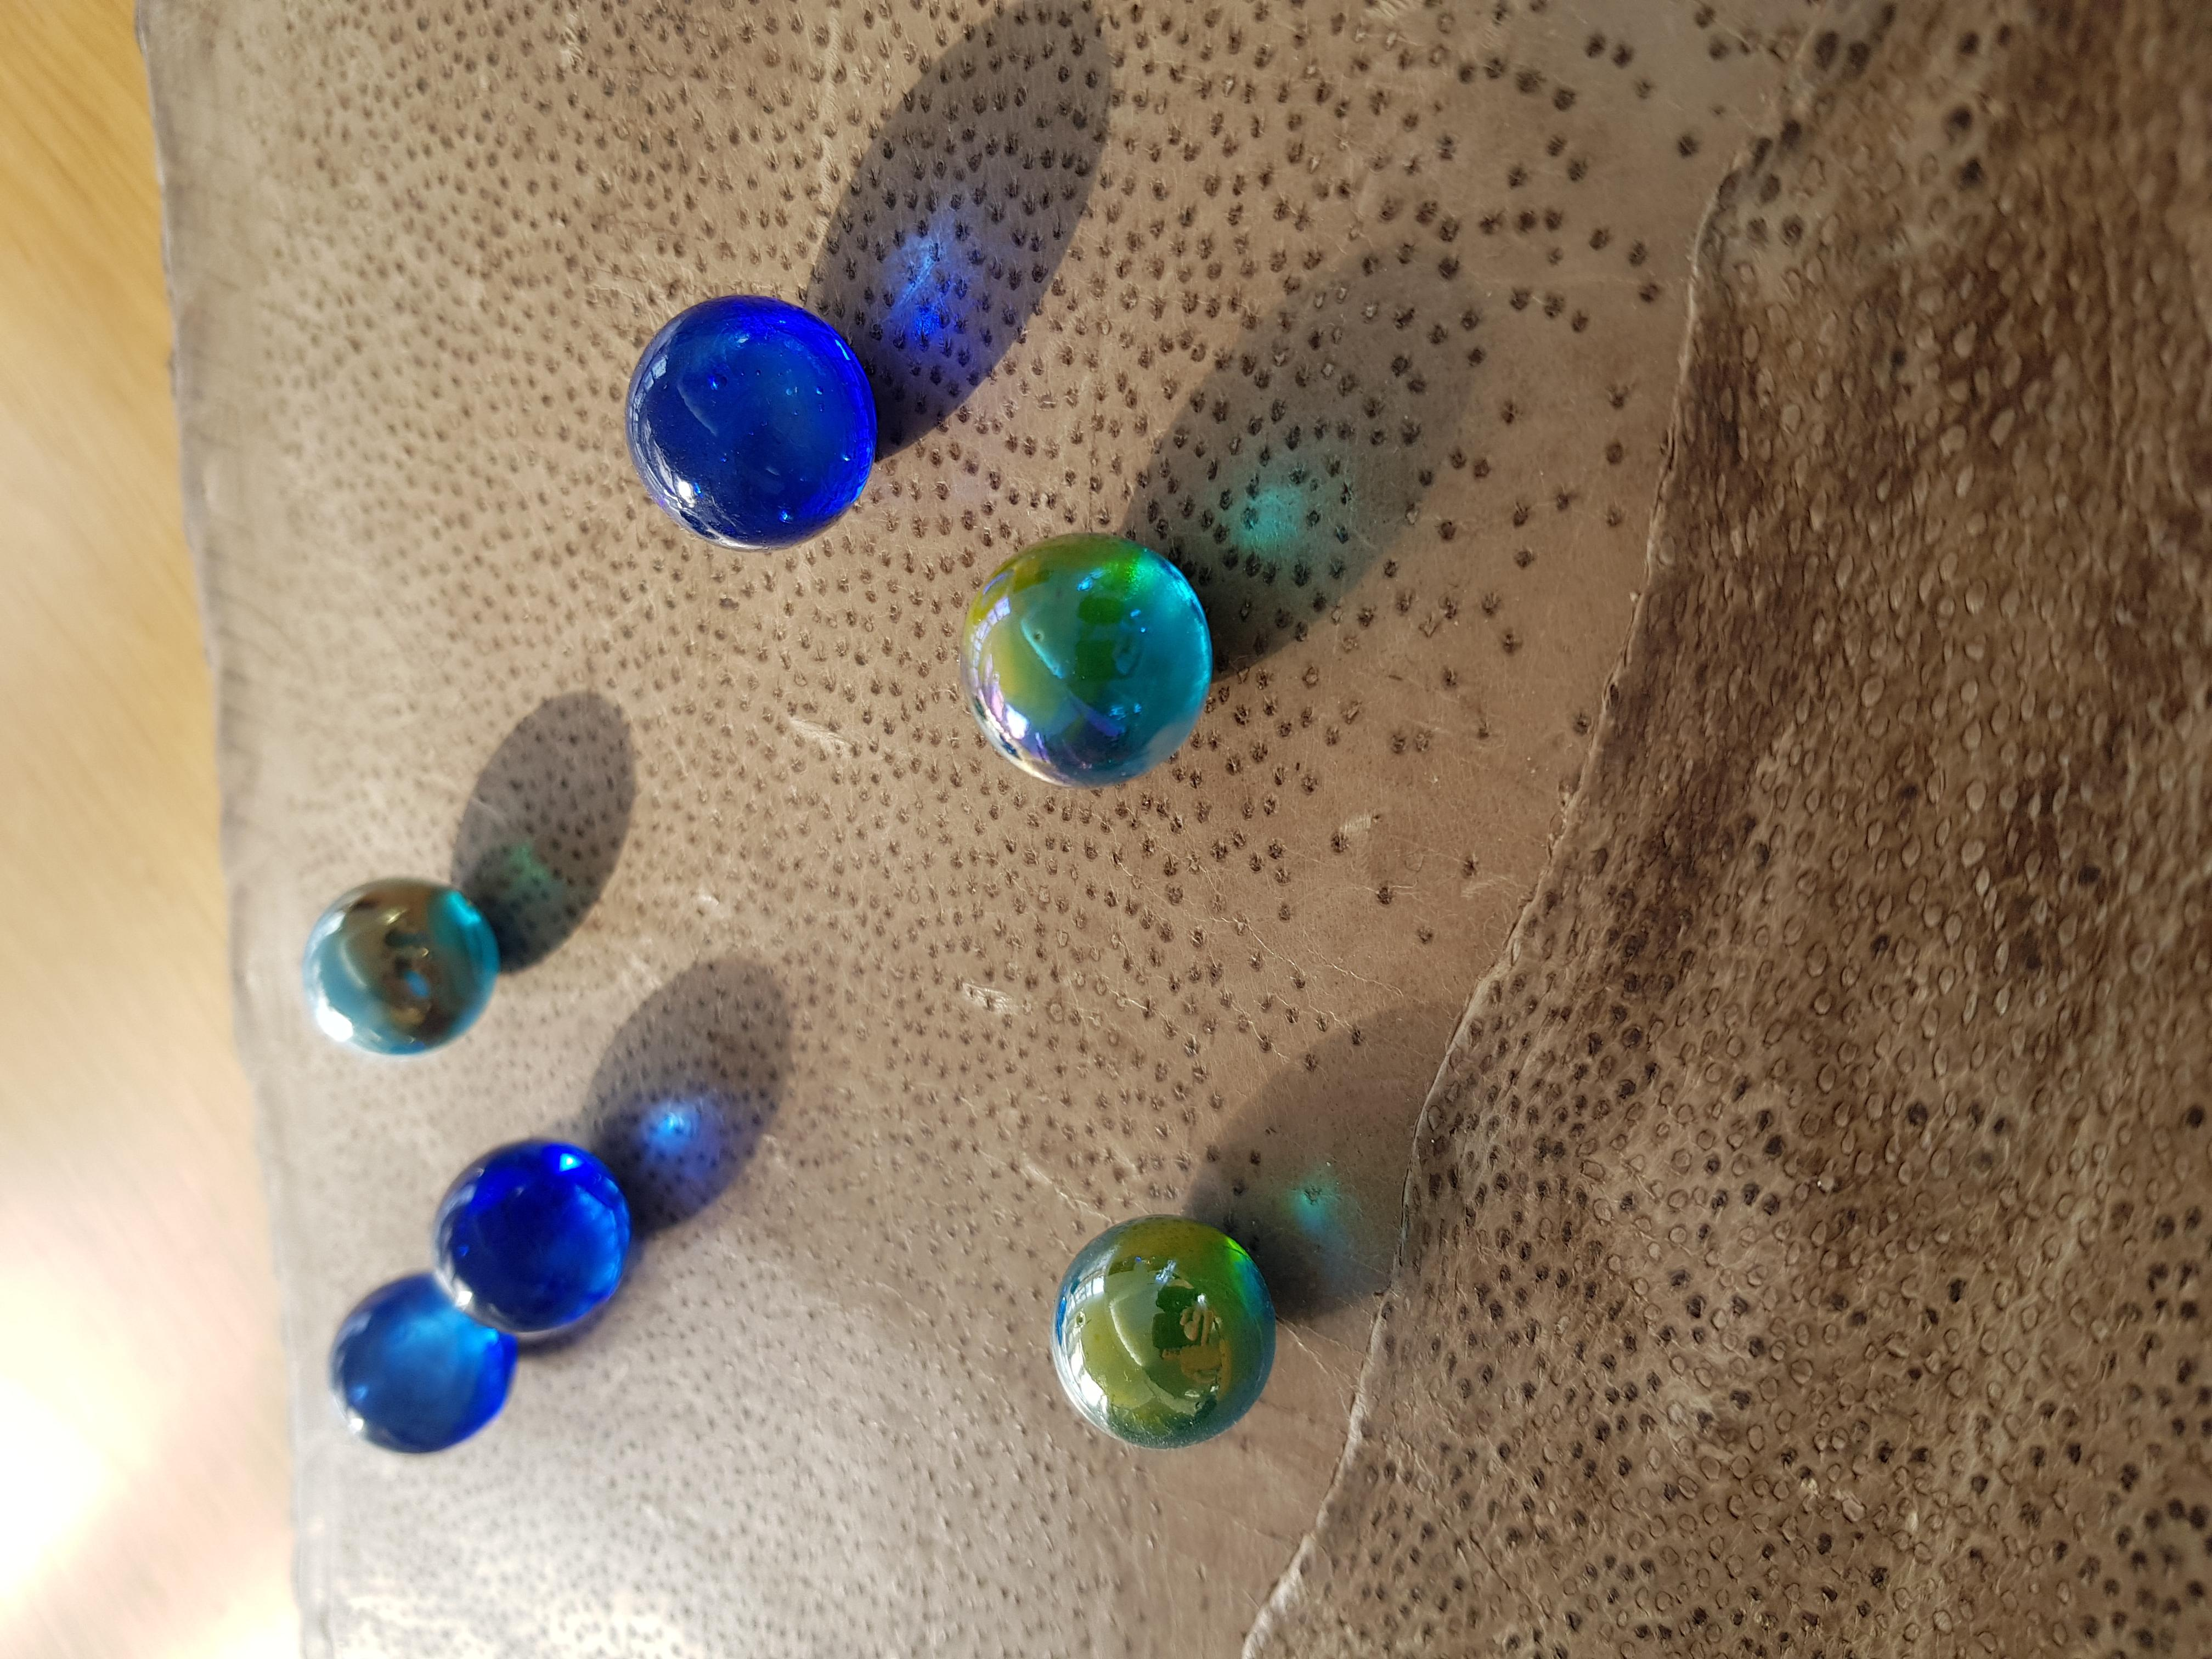Sphere: (946, 525, 1219, 795), (617, 291, 876, 547), (1042, 1209, 1277, 1446), (415, 1131, 639, 1338), (298, 870, 503, 1060), (322, 1277, 512, 1460)
